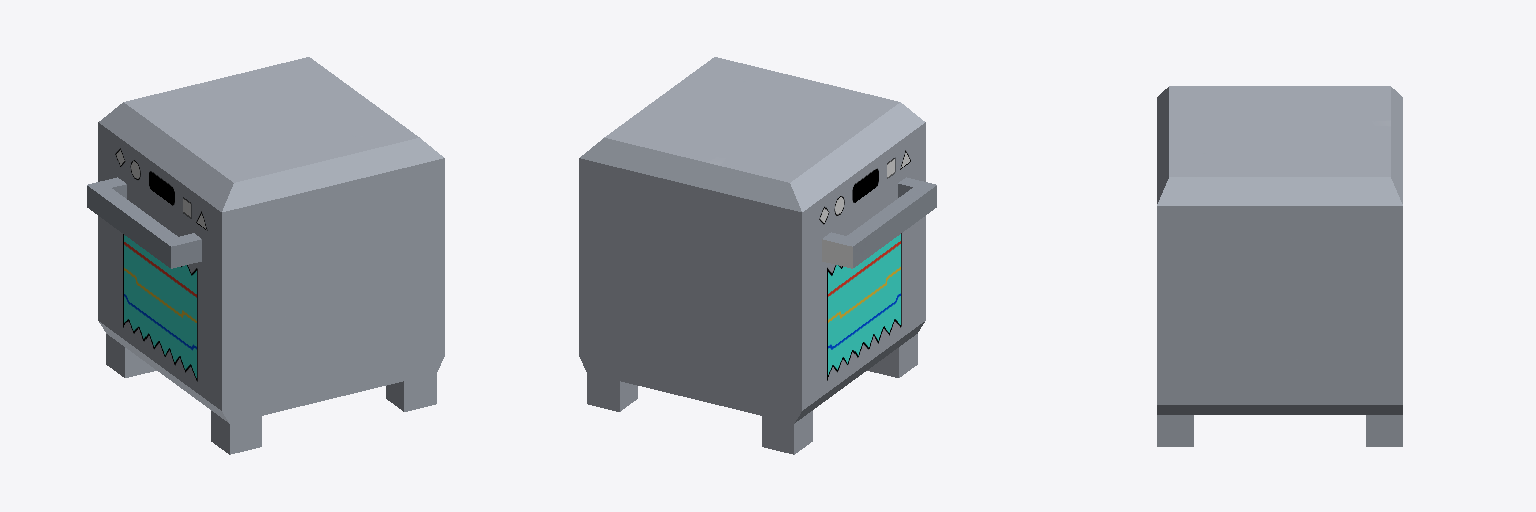
The picture shows the model from 3 angles: view 1: azimuth 30°, elevation 25°; view 2: azimuth 150°, elevation 25°; view 3: azimuth 270°, elevation 25°; orthographic projection.
Visible parts, largest first — view 1: pCube1_initialShadingGroup, pCube2_initialShadingGroup; view 2: pCube1_initialShadingGroup, pCube2_initialShadingGroup; view 3: pCube1_initialShadingGroup.
Boxes of the visible parts, x1=… form: pCube1_initialShadingGroup: x1=98, y1=57, x2=444, y2=454; pCube2_initialShadingGroup: x1=87, y1=177, x2=201, y2=268; pCube1_initialShadingGroup: x1=579, y1=57, x2=925, y2=454; pCube2_initialShadingGroup: x1=822, y1=177, x2=936, y2=268; pCube1_initialShadingGroup: x1=1157, y1=86, x2=1402, y2=446.
Bounding box in the file's own units: 1.33 × 1.32 × 1.12.
Materials: 1 (1 with a texture image).